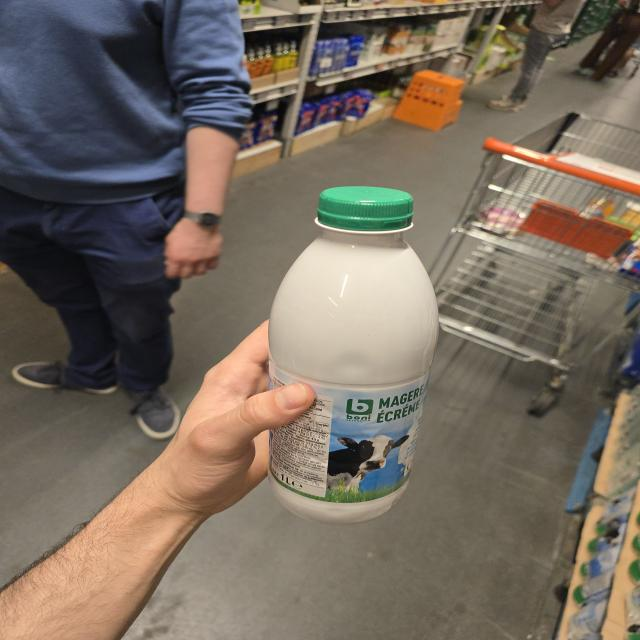Milk: (268, 186, 438, 523)
